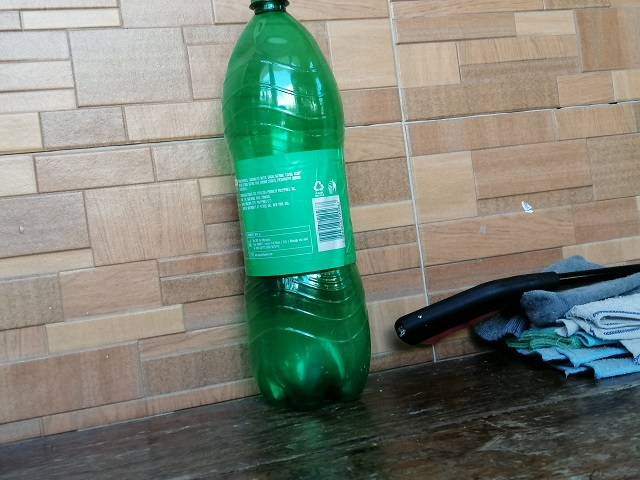bottle: (224, 1, 371, 407)
wall: (2, 4, 219, 401), (385, 3, 640, 254)
